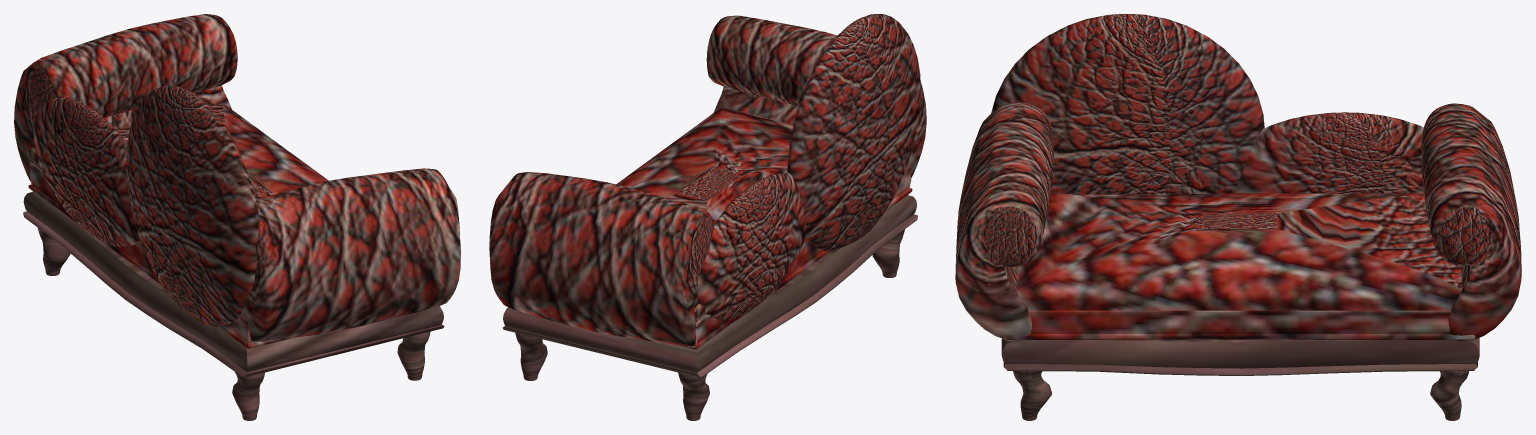
File: couch.fbx
The picture shows the model from 3 angles, left to right: view 1: azimuth 30°, elevation 25°; view 2: azimuth 150°, elevation 25°; view 3: azimuth 270°, elevation 25°; orthographic projection. The views are drawn at different scales.
Visible parts, largest first — view 1: polySurface4; view 2: polySurface4; view 3: polySurface4.
Boxes of the visible parts, x1,y1,x2,y2 form: polySurface4: (14,14,460,420); polySurface4: (489,14,926,420); polySurface4: (955,14,1521,420).
Bounding box in the file's own units: 6.84 × 8.59 × 14.12.
